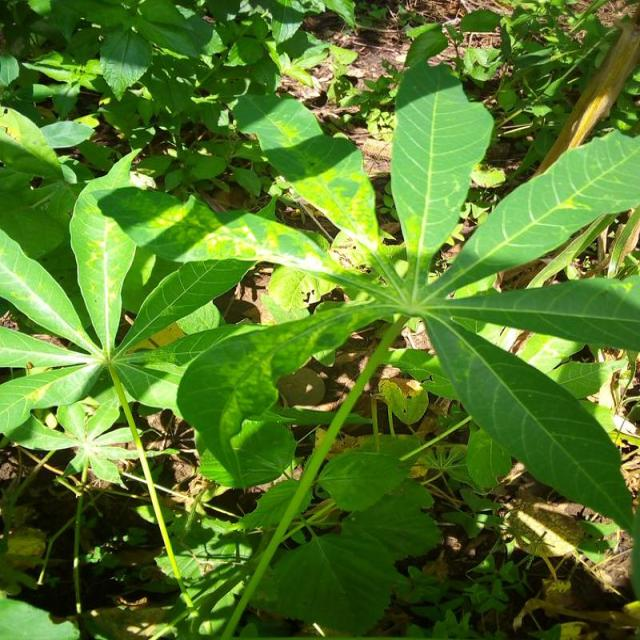Maleza: (179, 452, 492, 633)
Mosaico: (160, 124, 610, 451)
